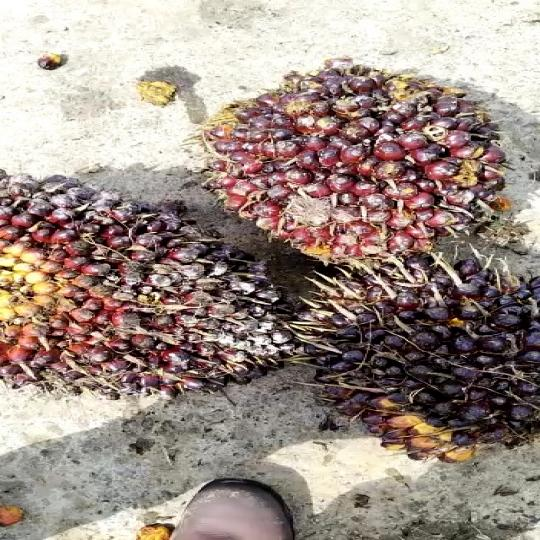kurang masak: (0, 174, 303, 412), (206, 59, 540, 258), (270, 265, 540, 474)
